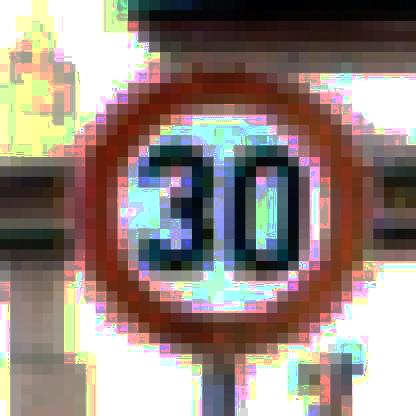Speed Limit -30-: (62, 61, 374, 353)
